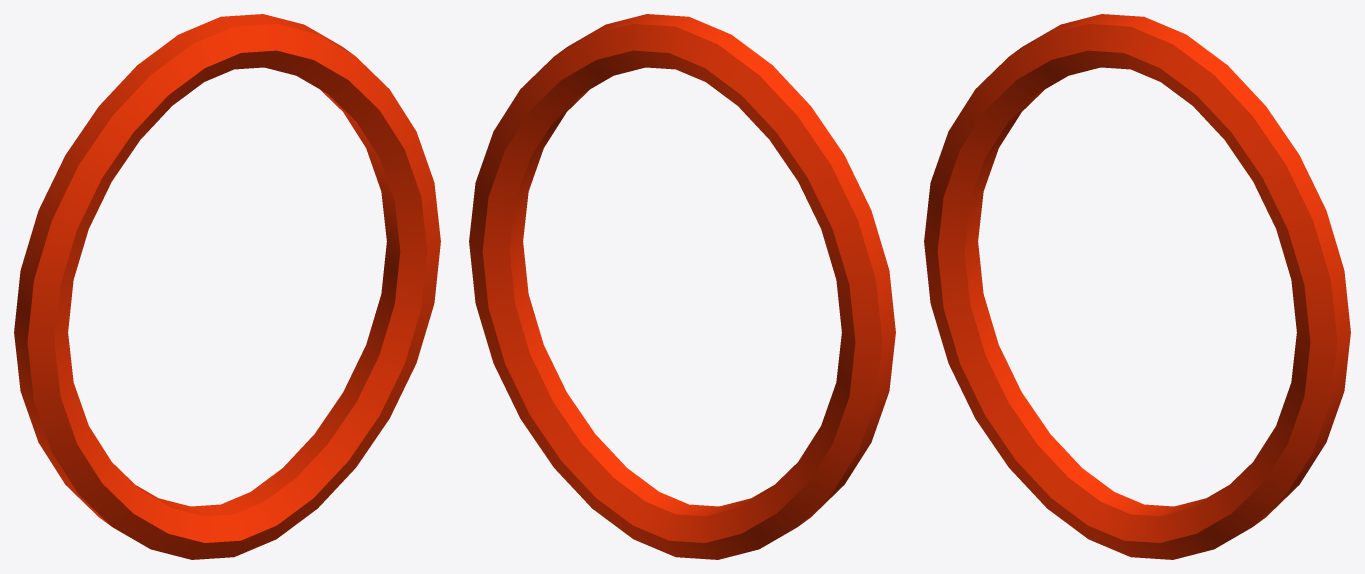
The model's file is Shield_Frame_01_Round_03.fbx.
The picture shows the model from 3 angles, left to right: view 1: azimuth 30°, elevation 25°; view 2: azimuth 150°, elevation 25°; view 3: azimuth 330°, elevation 25°; orthographic projection.
Parts seen in each view (by area): view 1: Shield_Frame_01_Round_03; view 2: Shield_Frame_01_Round_03; view 3: Shield_Frame_01_Round_03.
Part boxes in pixels (x1,y1,x2,y2): Shield_Frame_01_Round_03: [14, 14, 440, 559]; Shield_Frame_01_Round_03: [469, 14, 895, 559]; Shield_Frame_01_Round_03: [924, 14, 1350, 559].
Bounding box in the file's own units: 0.8428 × 1.03 × 0.095.
